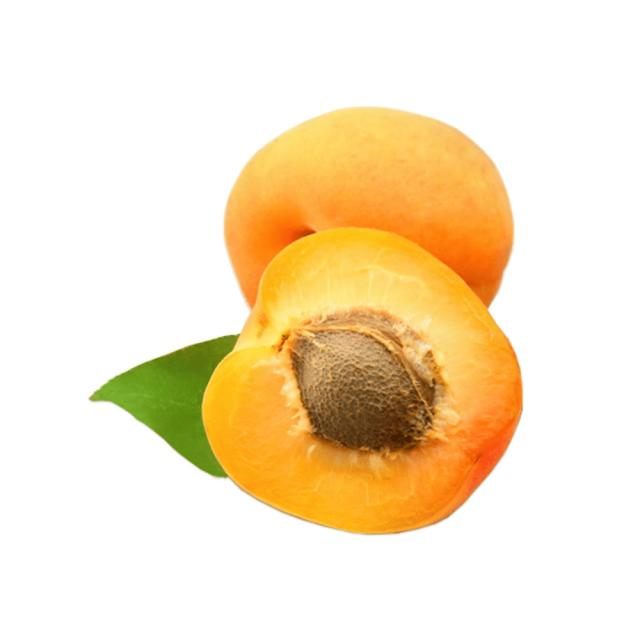kayisi: (202, 227, 528, 539), (223, 102, 513, 324)
kayisi cekirdegi: (278, 309, 438, 455)
kayisi yapragi: (87, 326, 240, 492)
